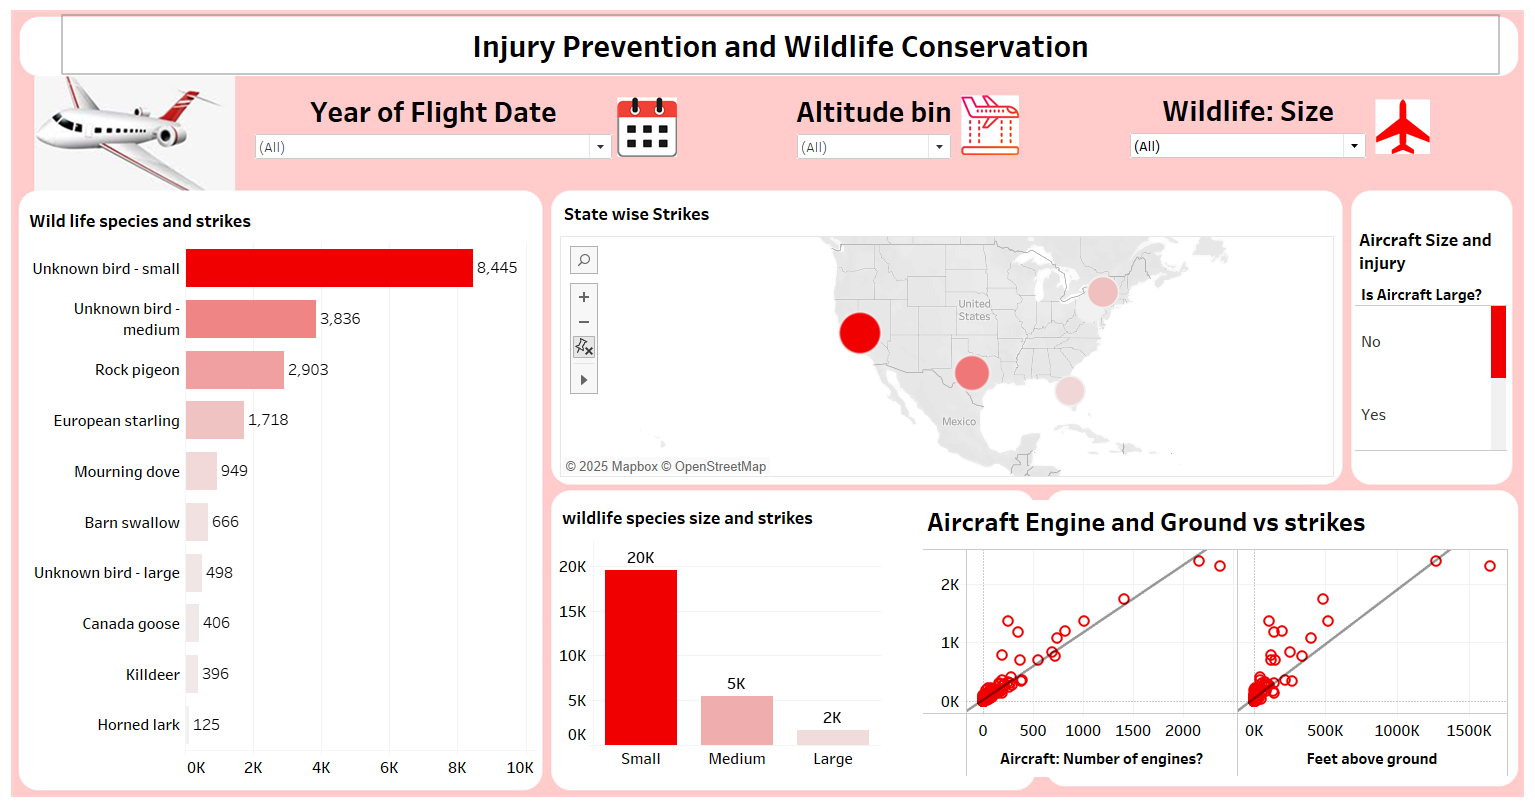

Layout of this report page (visuals, bound fields, positions):
{"tool":"tableau","page":{"name":"Dashboard 6","canvas":[1000,1000],"units":"permille","ordinal":5},"visuals":[{"type":"image","param":"Image/Group 1 (8).png","box":[4.8,9.9,990.3,980.3]},{"type":"text","box":[146.1,32.1,605.9,72.8]},{"type":"filter","title":"3(a) 1 - Part 2","param":"[federated.1rhwjbx1qr7v7i166l8qc01kg7mb].[none:Altitude bin:nk]","box":[772.5,115.9,96.6,119.6]},{"type":"filter","title":"4 (a,b) - Part 2","param":"[federated.1rhwjbx1qr7v7i166l8qc01kg7mb].[none:Airport: Name:nk]","box":[196.1,118.4,126.7,78.9]},{"type":"filter","title":"4 (a,b) - Part 2","param":"[federated.1rhwjbx1qr7v7i166l8qc01kg7mb].[none:Pilot warned of birds or wildlife","box":[347.6,119.6,223.9,119.6]},{"type":"filter","title":"3(a) 1 - Part 2","param":"[federated.1rhwjbx1qr7v7i166l8qc01kg7mb].[none:When: Phase of flight:nk]","box":[590.8,119.6,166.6,76.5]},{"type":"filter","title":"4 (a,b) - Part 2","param":"[federated.1rhwjbx1qr7v7i166l8qc01kg7mb].[yr:FlightDate:ok]","box":[54.3,123.3,124.9,74]},{"type":"worksheet","title":"4 (a,b) - Part 2","mark":"Automatic","rows":[" Number Struck Actual"],"cols":["Pilot warned of birds or wildlife?"," Number struck"],"box":[19.9,241.7,717,299.6]},{"type":"image","param":"Image/download (6).jpg","box":[746.5,278.7,159.3,218.2]},{"type":"worksheet","title":"3(a) - Part 2","mark":"Automatic","rows":[" Number Struck Actual"],"cols":[" Sky"],"box":[18.7,583.2,280,378.6]},{"type":"worksheet","title":"3(a) 2 - Part 2","mark":"Automatic","rows":[" Number Struck Actual"],"cols":[" Number of engines?"],"box":[627.6,584.5,280.6,373.6]},{"type":"worksheet","title":"3(a) 1 - Part 2","mark":"Automatic","rows":[" Phase of flight"],"cols":["Altitude bin"],"box":[324.7,585.7,279.4,373.6]}]}

Visuals, with their boxes on the dashboard's canvas, which has no fixed pixel size, in thousandths of its width and height (x1, y1, x2, y2). These are canvas units, not pixel positions in the 1535x807 screenshot, which may show the page scaled, cropped or inside an application window:
image: crop(5, 10, 995, 990)
text: crop(146, 32, 752, 105)
"3(a) 1 - Part 2" filter: crop(772, 116, 869, 236)
"4 (a,b) - Part 2" filter: crop(196, 118, 323, 197)
"4 (a,b) - Part 2" filter: crop(348, 120, 572, 239)
"3(a) 1 - Part 2" filter: crop(591, 120, 757, 196)
"4 (a,b) - Part 2" filter: crop(54, 123, 179, 197)
"4 (a,b) - Part 2" worksheet: crop(20, 242, 737, 541)
image: crop(746, 279, 906, 497)
"3(a) - Part 2" worksheet: crop(19, 583, 299, 962)
"3(a) 2 - Part 2" worksheet: crop(628, 584, 908, 958)
"3(a) 1 - Part 2" worksheet: crop(325, 586, 604, 959)
